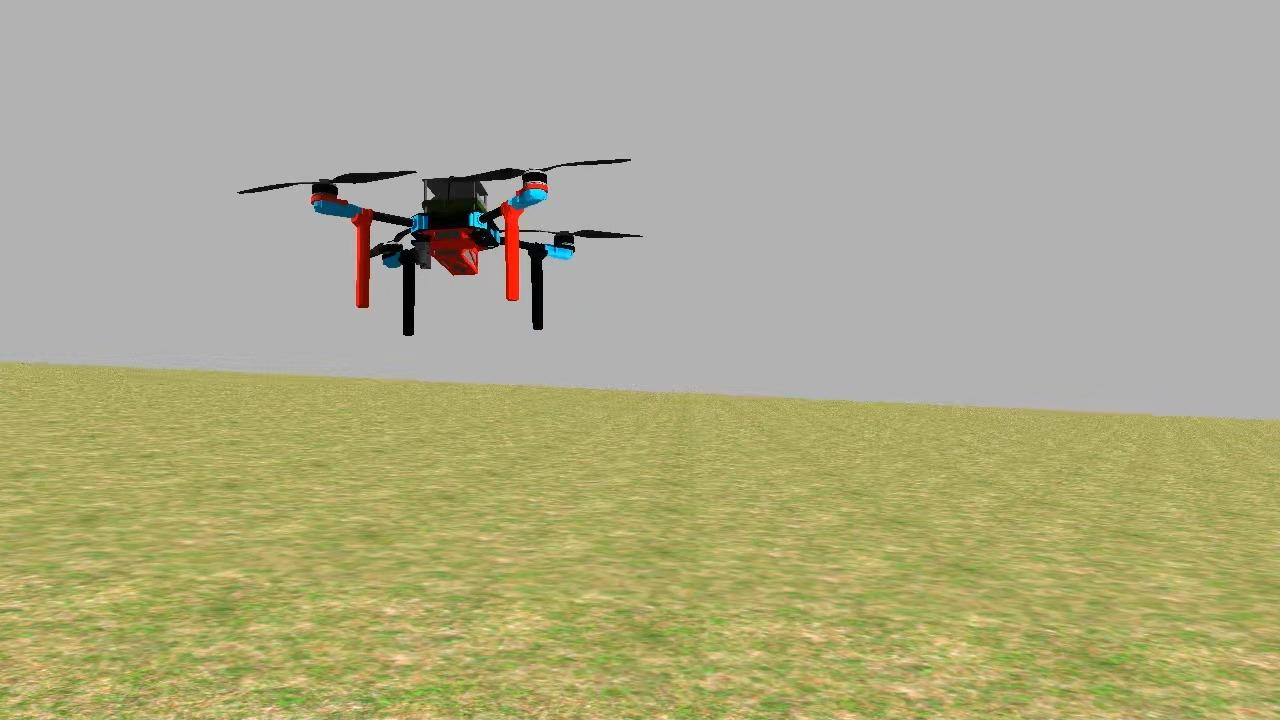UAV: (300, 162, 582, 338)
